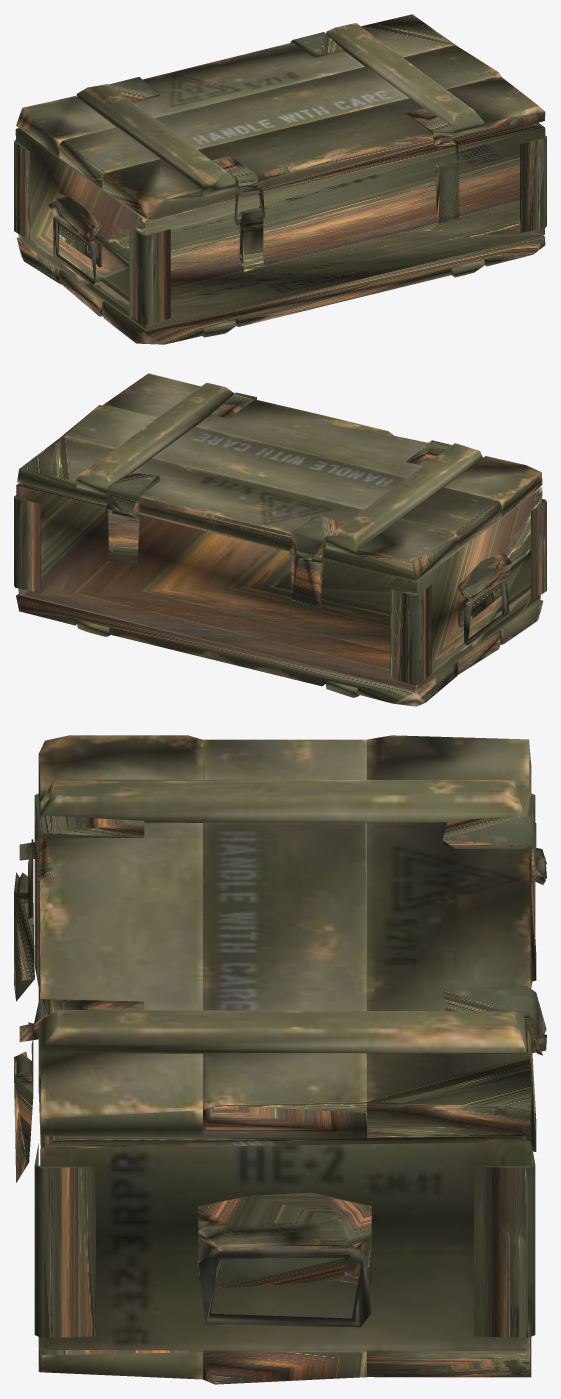
Rendered from ammo-crate.glb.
The picture shows the model from 3 angles, top to bottom: view 1: azimuth 30°, elevation 25°; view 2: azimuth 150°, elevation 25°; view 3: azimuth 270°, elevation 25°; orthographic projection. The views are drawn at different scales.
Visible parts, largest first — view 1: old_military_crate_lid_a; view 2: old_military_crate_lid_a; view 3: old_military_crate_lid_a.
Boxes of the visible parts, x1,y1,x2,y2 form: old_military_crate_lid_a: (14,14,546,344); old_military_crate_lid_a: (14,373,546,706); old_military_crate_lid_a: (14,735,546,1384).
Size of the model in its own units: 0.8042 by 0.3005 by 0.4652.
Materials: 1 (1 with a texture image).
